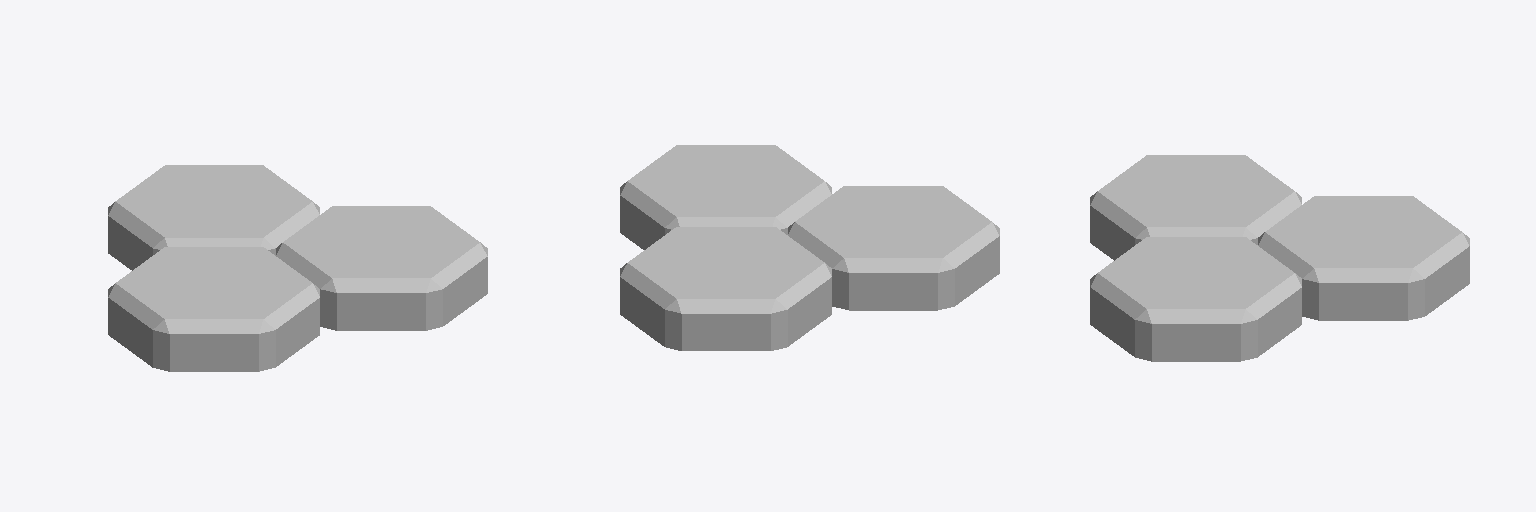
Rendered from plat_smol.obj.
The picture shows the model from 3 angles: view 1: azimuth 30°, elevation 25°; view 2: azimuth 150°, elevation 25°; view 3: azimuth 270°, elevation 25°; orthographic projection.
Parts seen in each view (by area): view 1: Cylinder.007; view 2: Cylinder.007; view 3: Cylinder.007.
Part boxes in pixels (x1,y1,x2,y2): Cylinder.007: (108,165,487,371); Cylinder.007: (620,145,999,350); Cylinder.007: (1090,155,1469,361).
Size of the model in its own units: 0.733 by 0.1 by 0.7194.